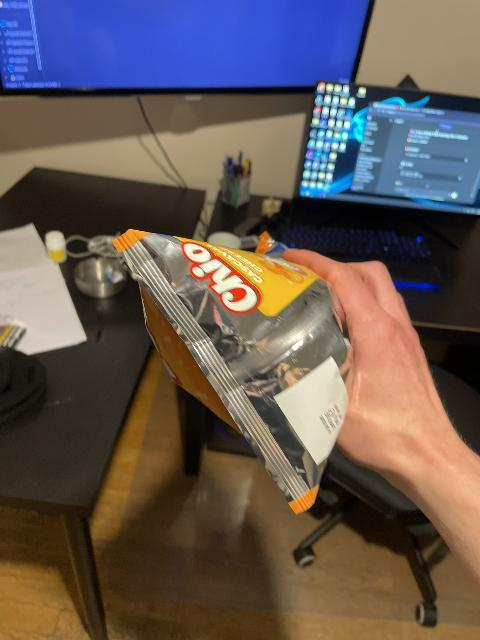Chio Cascaval 125g: (112, 233, 347, 510)
